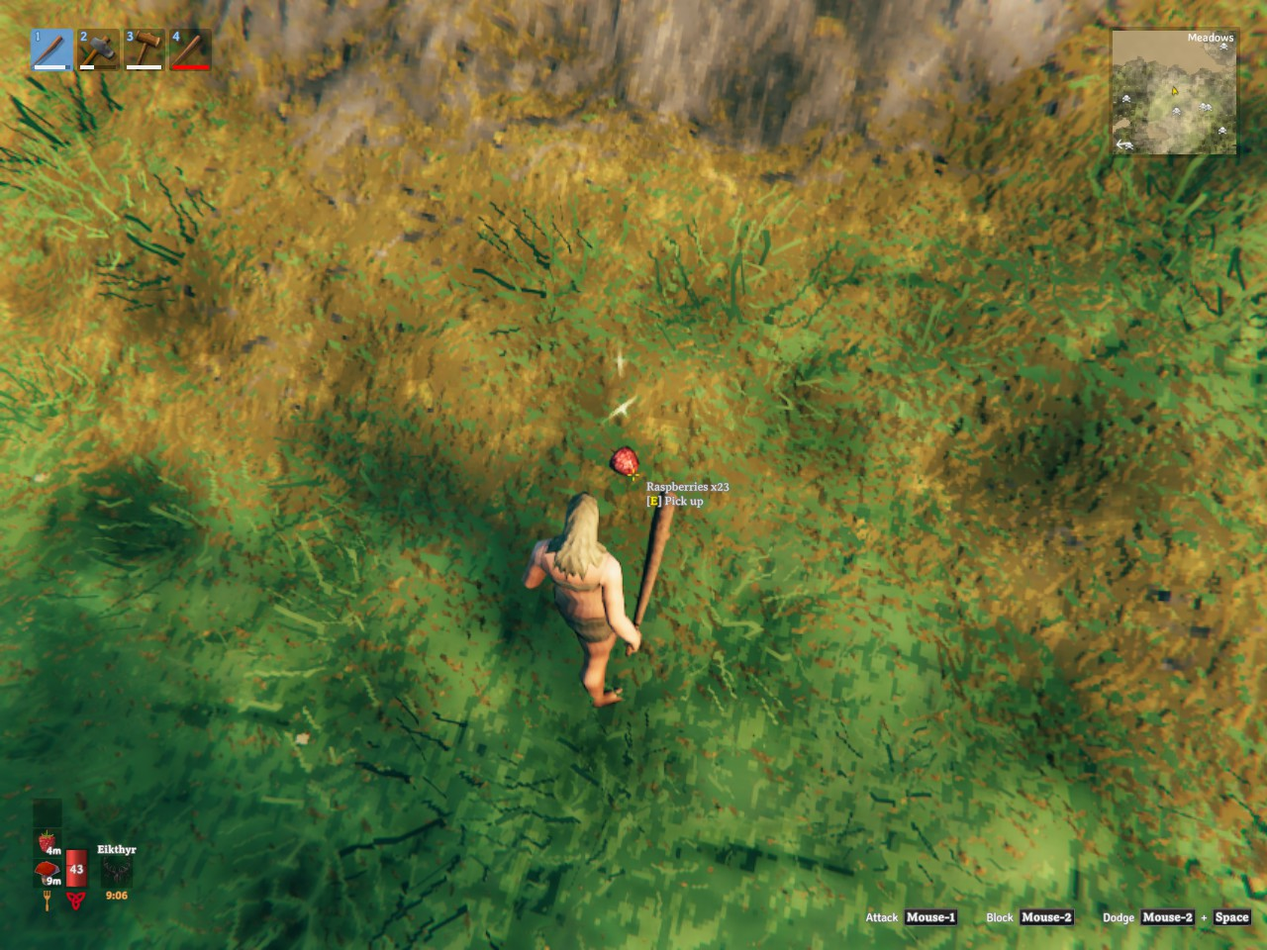Club: (634, 492, 681, 626)
Food Indicator: (36, 829, 63, 891)
Health Bar: (63, 845, 90, 891)
Hotbar: (25, 21, 398, 78)
Raspberries: (611, 446, 638, 477)
